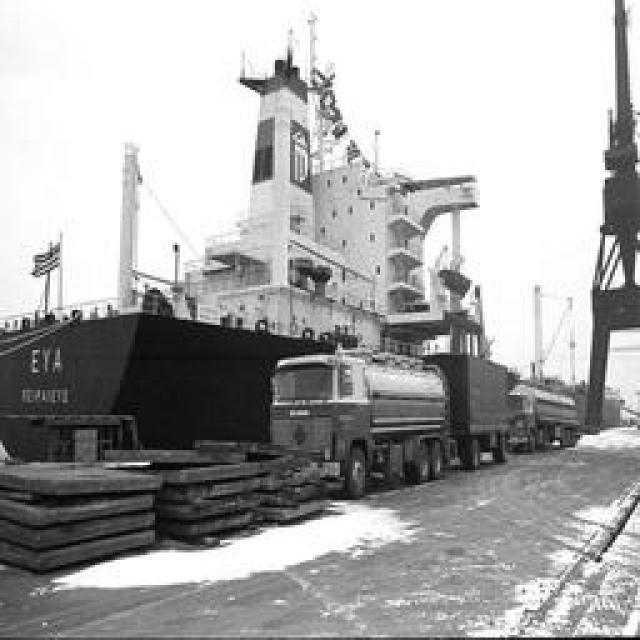Ship: (1, 13, 599, 467)
